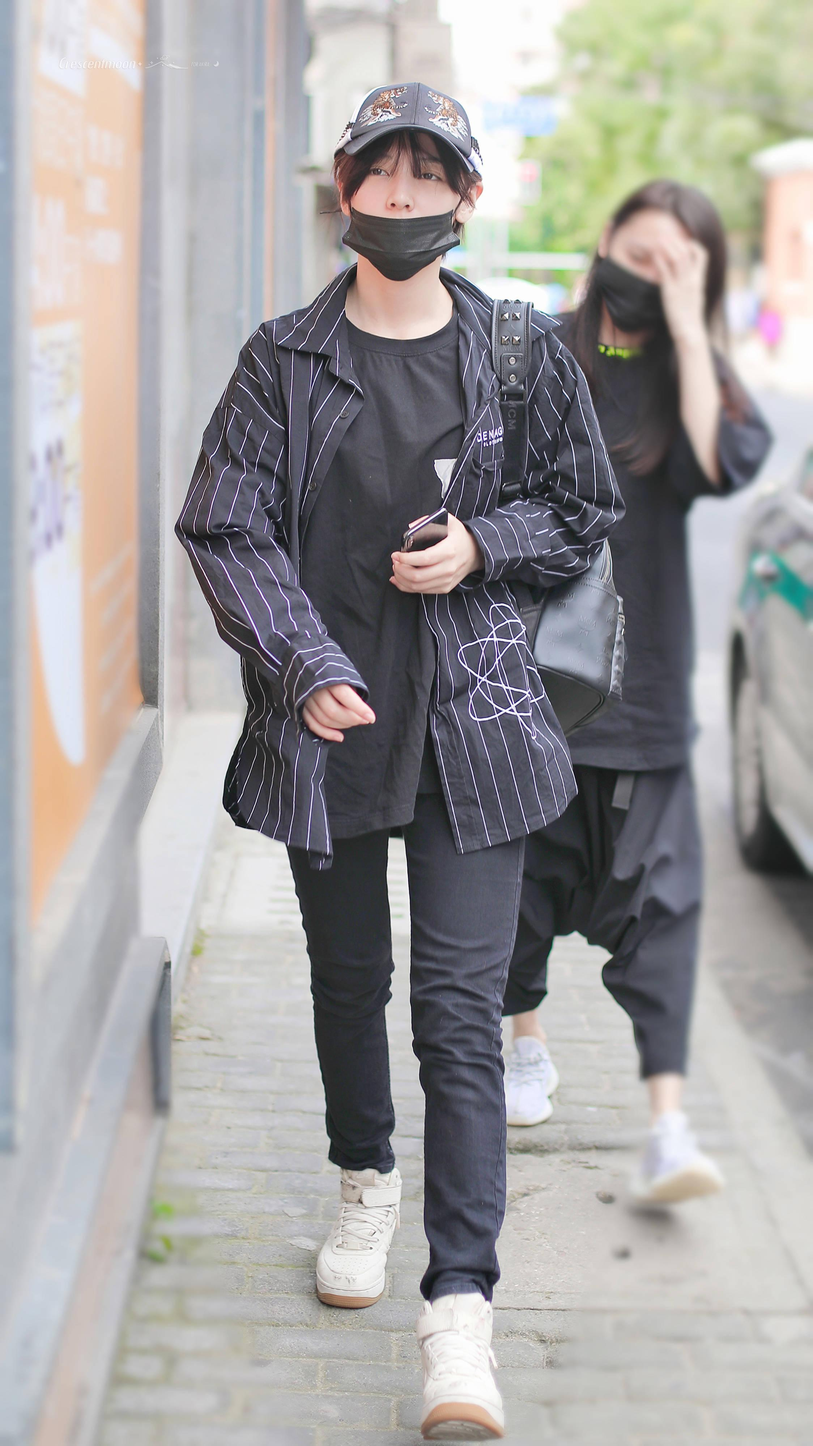OK: (603, 227, 685, 335)
WRONG: (350, 141, 458, 279)
